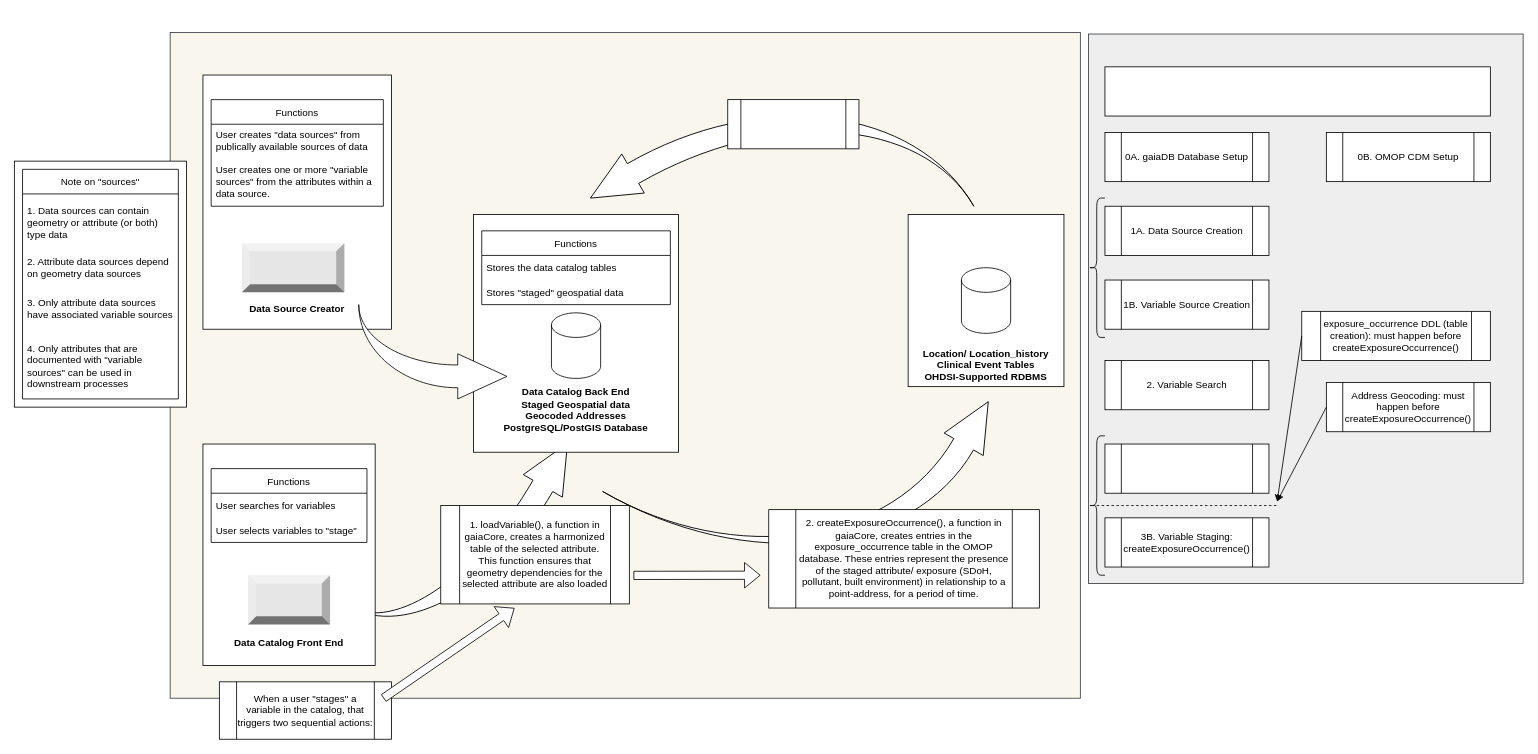
The diagram is 1538 pixels wide and 754 high, and some of its shapes have lost their labels. The shapes that lost their labels are listed below. From the top down, each one's centre as x and y in pixels, then its label:
At point (1297, 91): "Order of Operations:".
At point (793, 124): "Address geocoding (Patients, Care Sites)".
At point (292, 267): "DataSourceCreator".
At point (986, 300): "OMOP Database".
At point (576, 345): "gaiaDB".
At point (1186, 468): "3A. Variable Staging: loadVariable()".
At point (289, 599): "gaiaCatalog".
